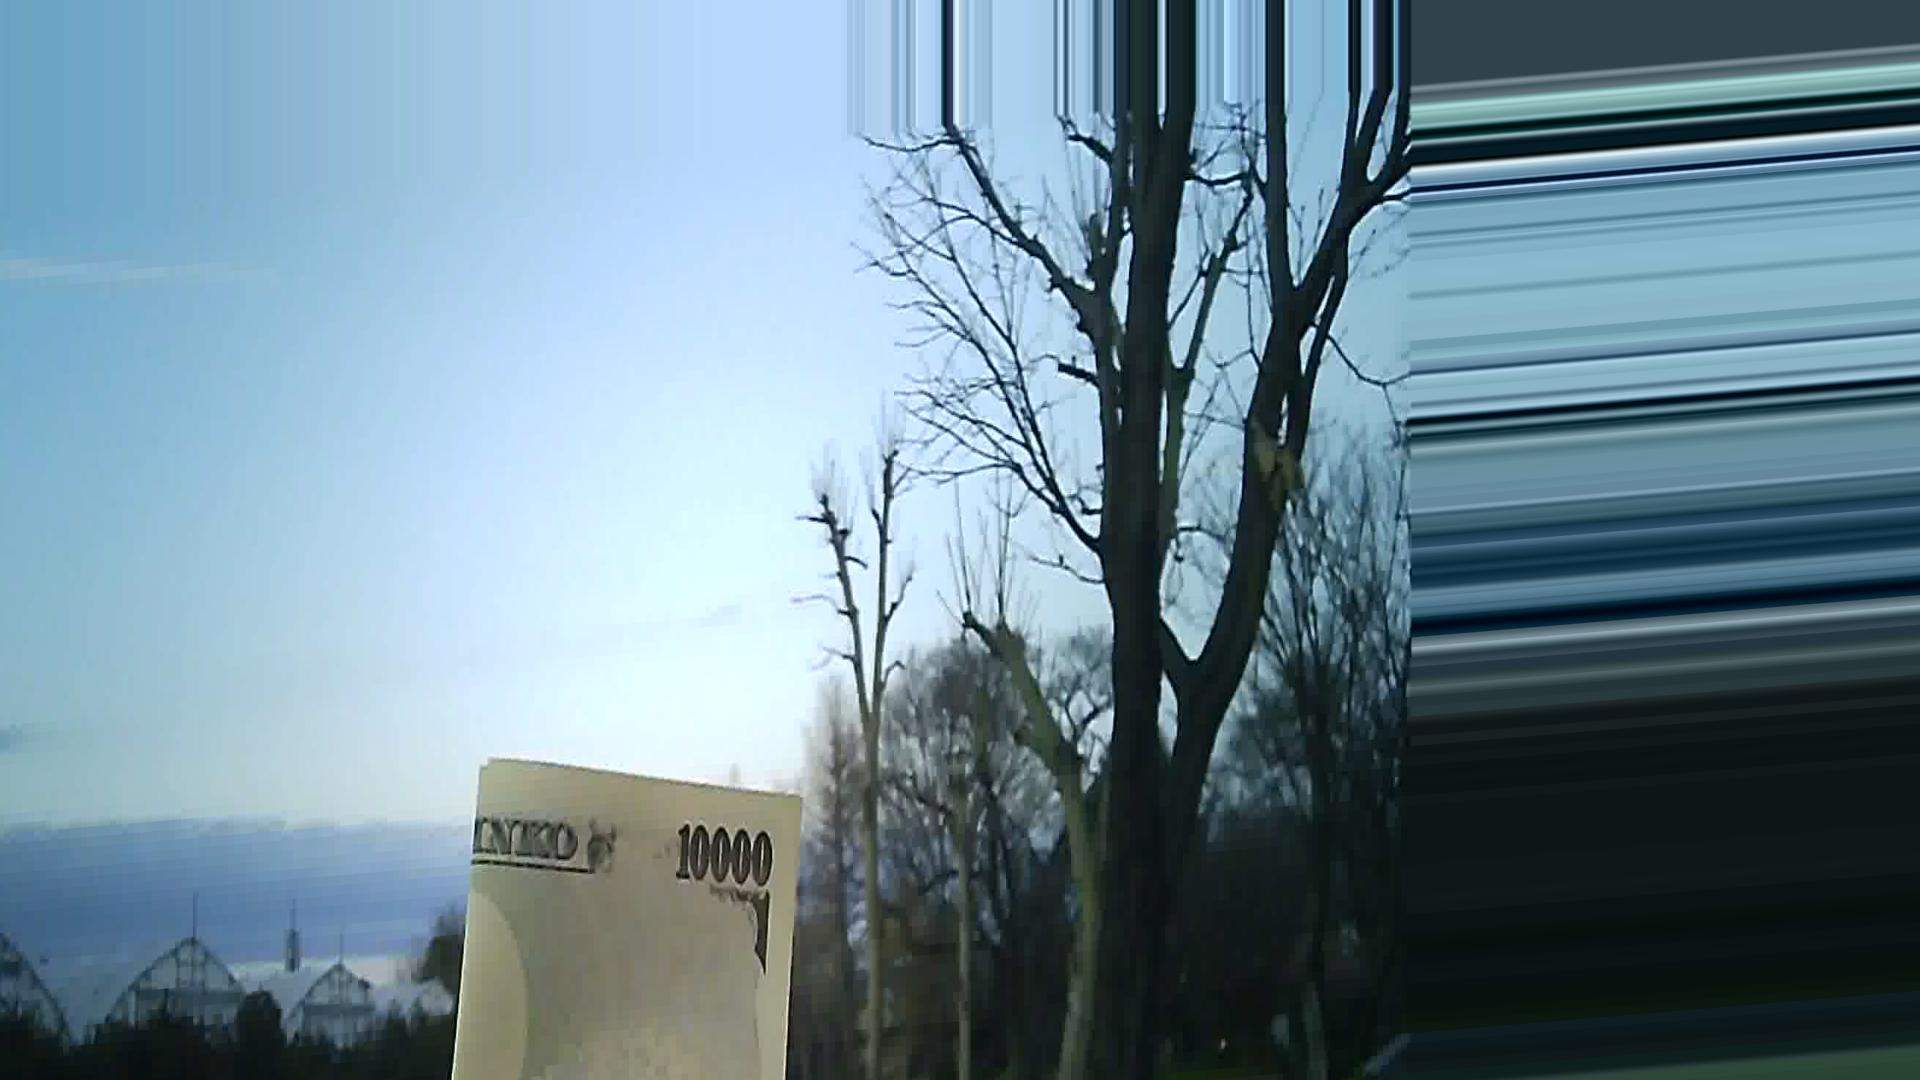10,000 Yen: (426, 737, 831, 1079)
